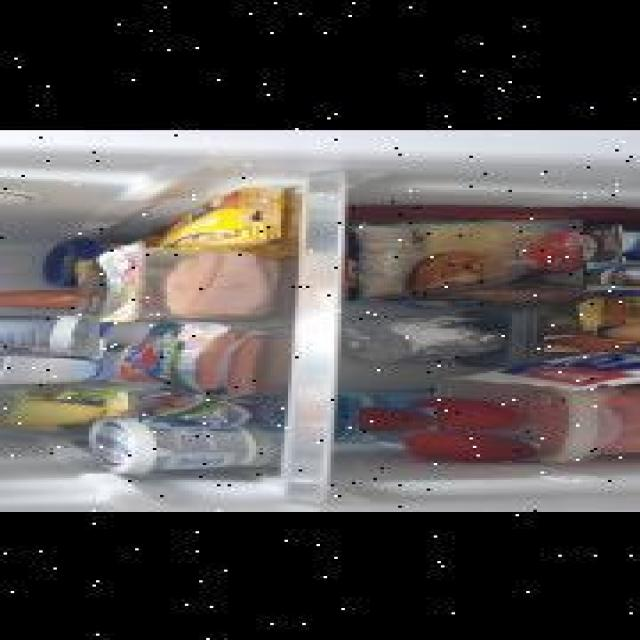cheese: (84, 415, 262, 470), (0, 314, 100, 354)
egg: (544, 333, 636, 350), (597, 322, 640, 341)
grated_cheese: (349, 216, 583, 298)
sausage: (105, 320, 268, 393), (138, 393, 228, 420)
tomato: (406, 429, 540, 461), (409, 396, 515, 428), (359, 405, 437, 429)
yogurt: (586, 260, 640, 287)
